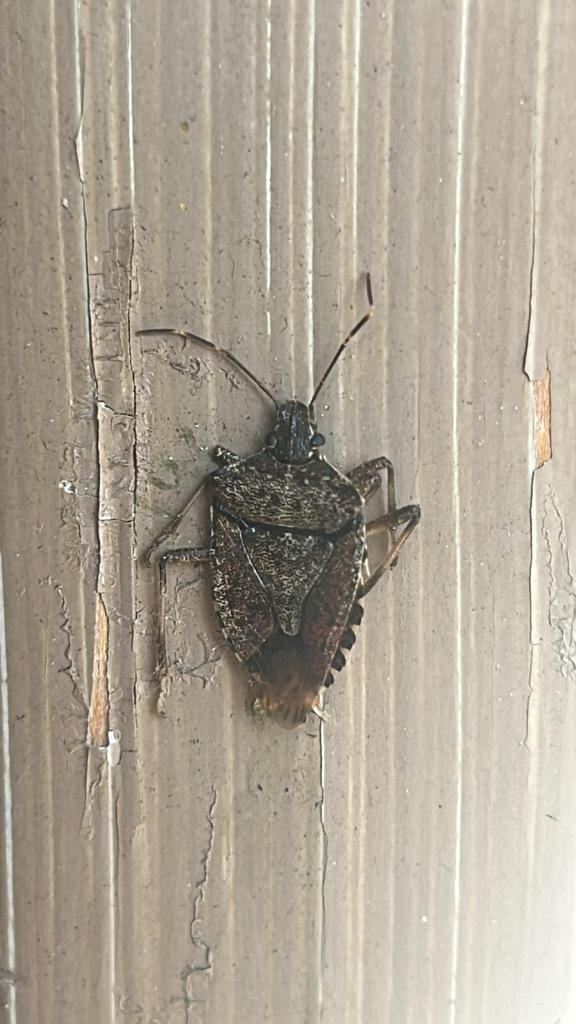stink_bugs: (92, 244, 469, 762)
